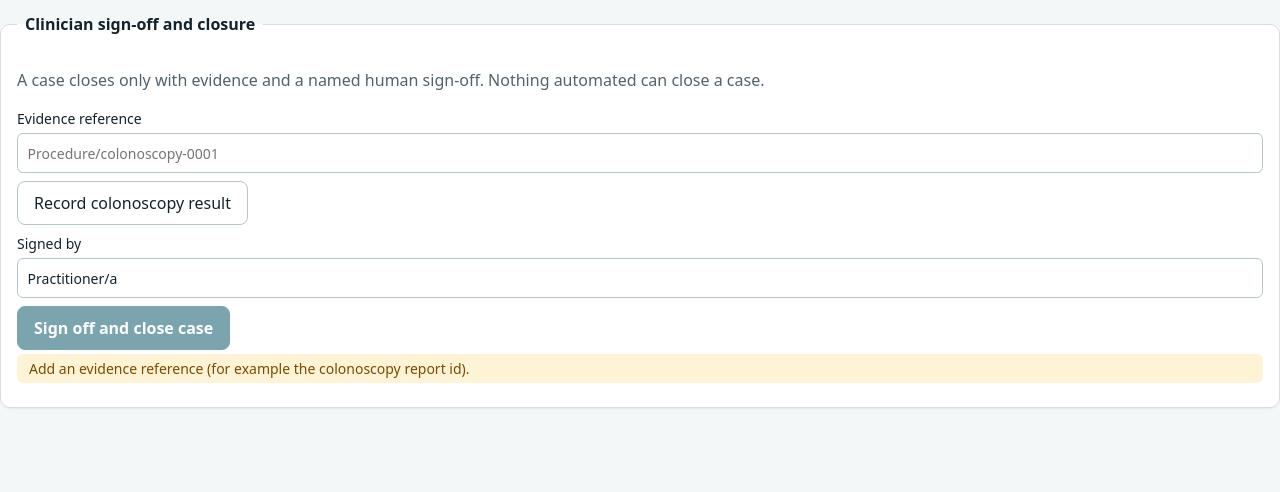
Test case: sign-off against the real API › says why when HAPI refuses to record the colonoscopy
This screenshot has width=1280, height=492.
Click the button with test id "record-colonoscopy". click: (132, 203)
box: [17,181,248,225]
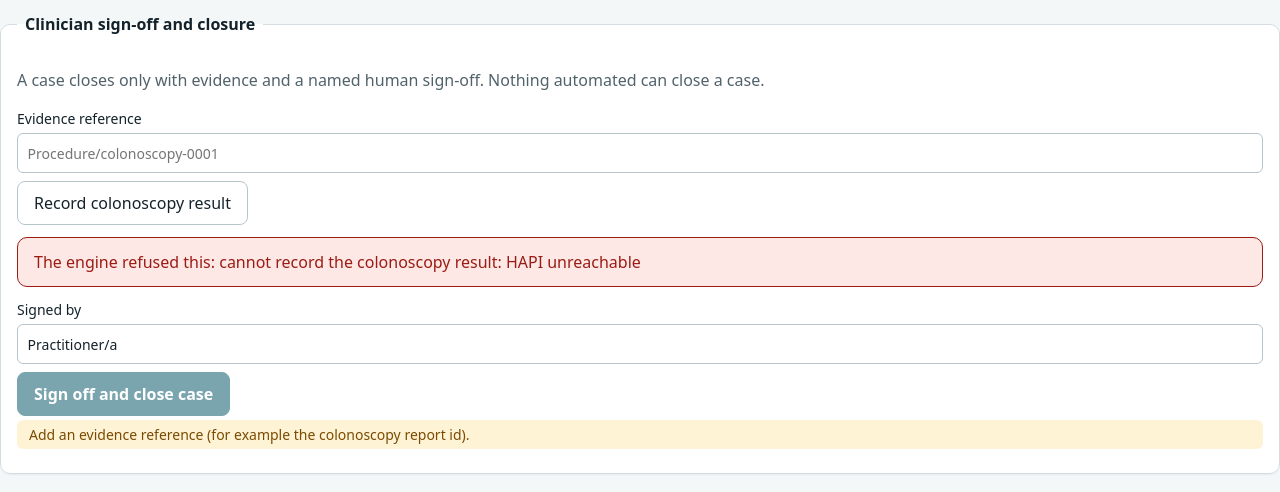
Now the message shows "HAPI unreachable", box [34,251,641,273]
